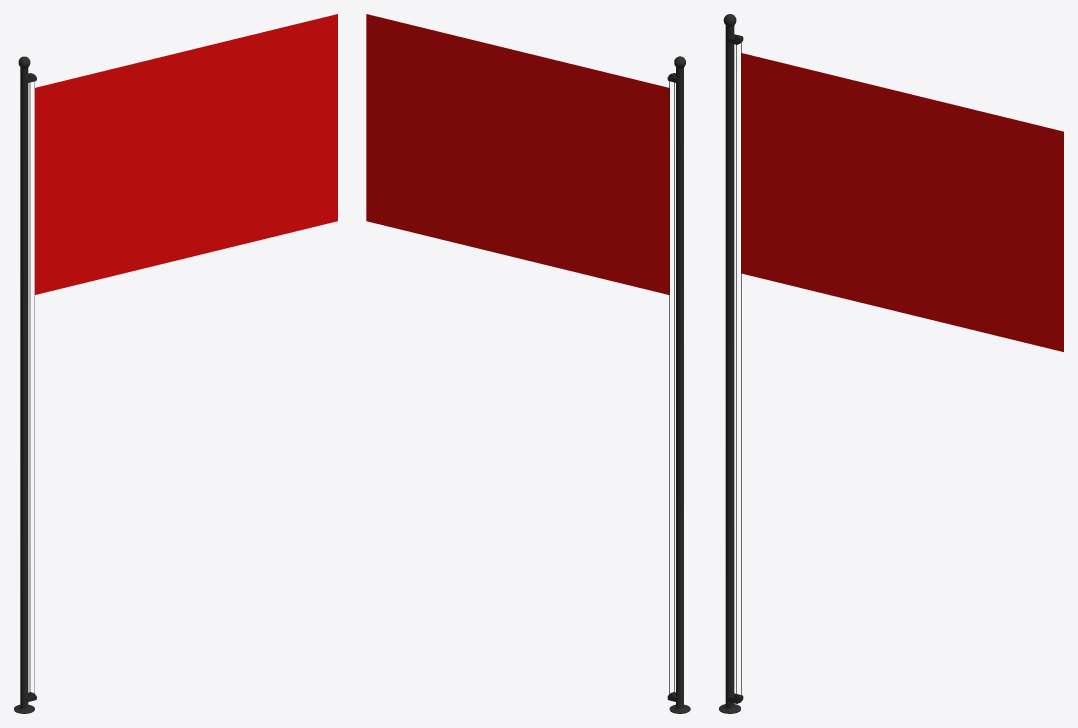
Rendered from flag.FBX.
3 renders of one model, left to right at view 1: azimuth 30°, elevation 25°; view 2: azimuth 150°, elevation 25°; view 3: azimuth 330°, elevation 25°, orthographic. The views are drawn at different scales.
Visible parts, largest first — view 1: bayrak, direk; view 2: bayrak, direk; view 3: bayrak, direk.
Boxes of the visible parts, box(x1,y1,x2,y2) form: bayrak: box(35, 14, 337, 294); direk: box(14, 56, 36, 713); bayrak: box(366, 14, 669, 294); direk: box(667, 56, 690, 713); bayrak: box(741, 53, 1063, 351); direk: box(719, 14, 743, 713).
Bounding box in the file's own units: 450 × 869 × 25.11.
